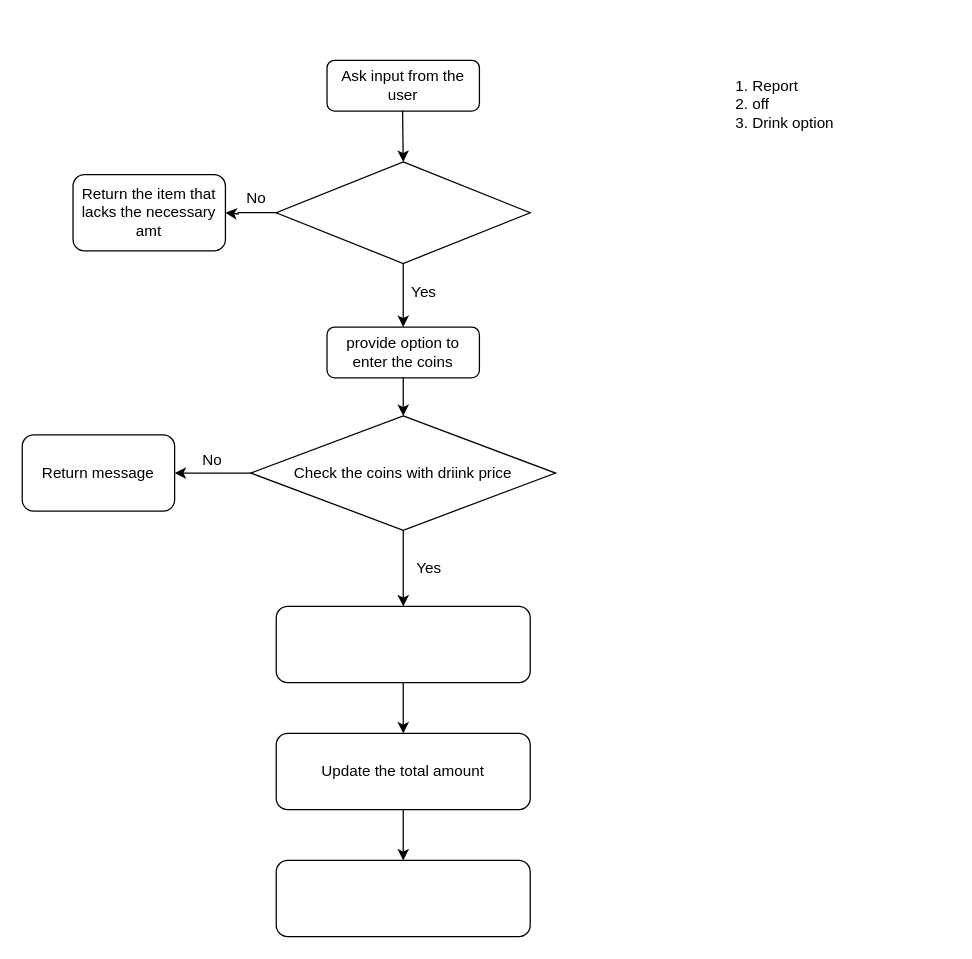
Image size: 972x959. Some labels were removed from this diagram. Here are the shapes that lost their labels. From the top down, the box of each, then its label:
(275, 161, 530, 264): Check available resources
(275, 605, 530, 683): Return the change and drinks welcome message
(275, 859, 530, 937): Report should also be updated with reduced value and increased amount
